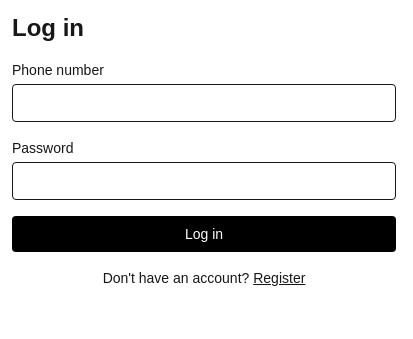
LoginForm › shows form-level banner on rate_limit_exceeded
Type "+1234567890" into the field labelled "Phone number" at [204, 103], box [12,84,396,122]
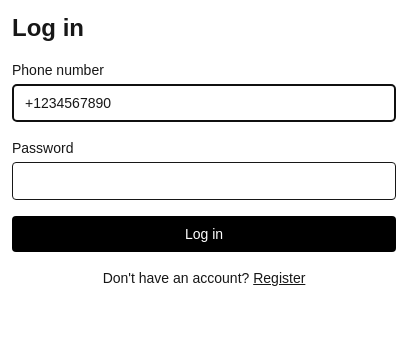
Type "pass" into the password field labelled "Password" at [204, 181], box [12,162,396,200]
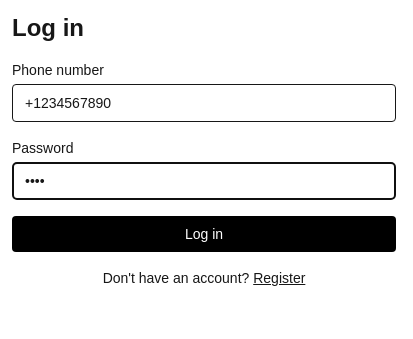
Click the button "Log in" at [204, 234], box [12,216,396,252]
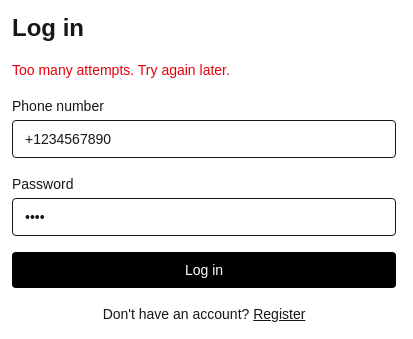
Now the text "Too many attempts. Try again later." is shown, box [12,62,230,78]
